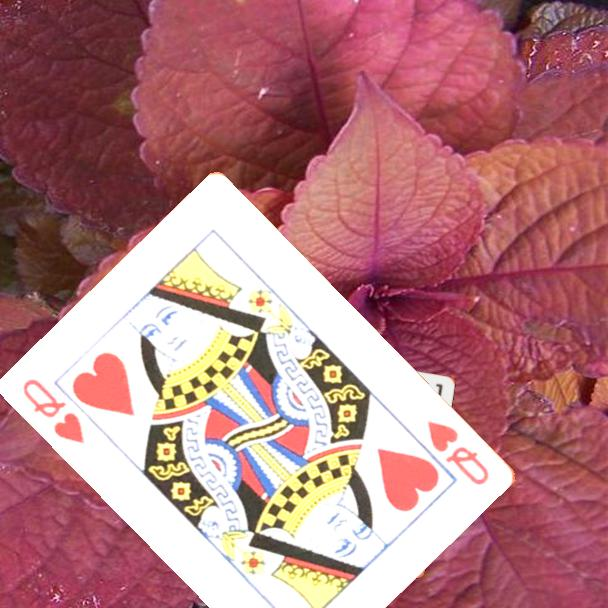h12: (20, 374, 89, 447), (424, 417, 493, 488)
